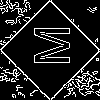M: (25, 25, 70, 66)
